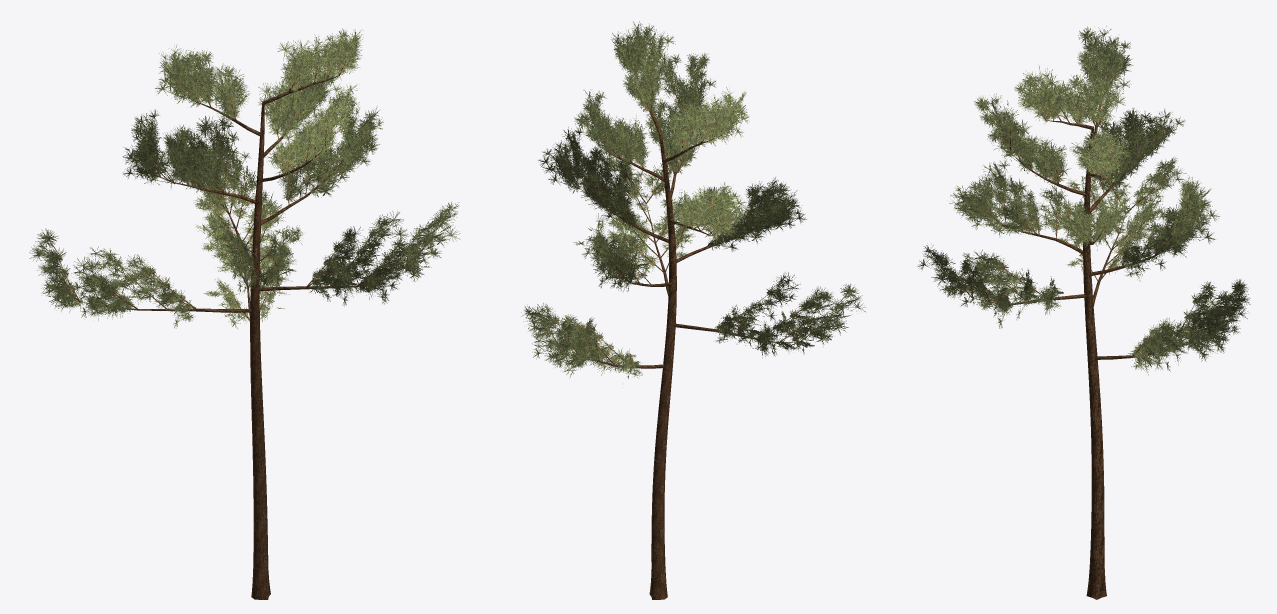
File: tree_pine_v1_l0.glb
The picture shows the model from 3 angles, left to right: view 1: azimuth 30°, elevation 25°; view 2: azimuth 150°, elevation 25°; view 3: azimuth 270°, elevation 25°; orthographic projection. The views are drawn at different scales.
Parts seen in each view (by area): view 1: tree_pine_v1_l0; view 2: tree_pine_v1_l0; view 3: tree_pine_v1_l0.
Part boxes in pixels (x1,y1,x2,y2): tree_pine_v1_l0: (29, 28, 460, 599); tree_pine_v1_l0: (521, 21, 865, 599); tree_pine_v1_l0: (918, 26, 1250, 599).
Bounding box in the file's own units: 9.03 × 13.55 × 7.82.
2 materials, 2 textured.
